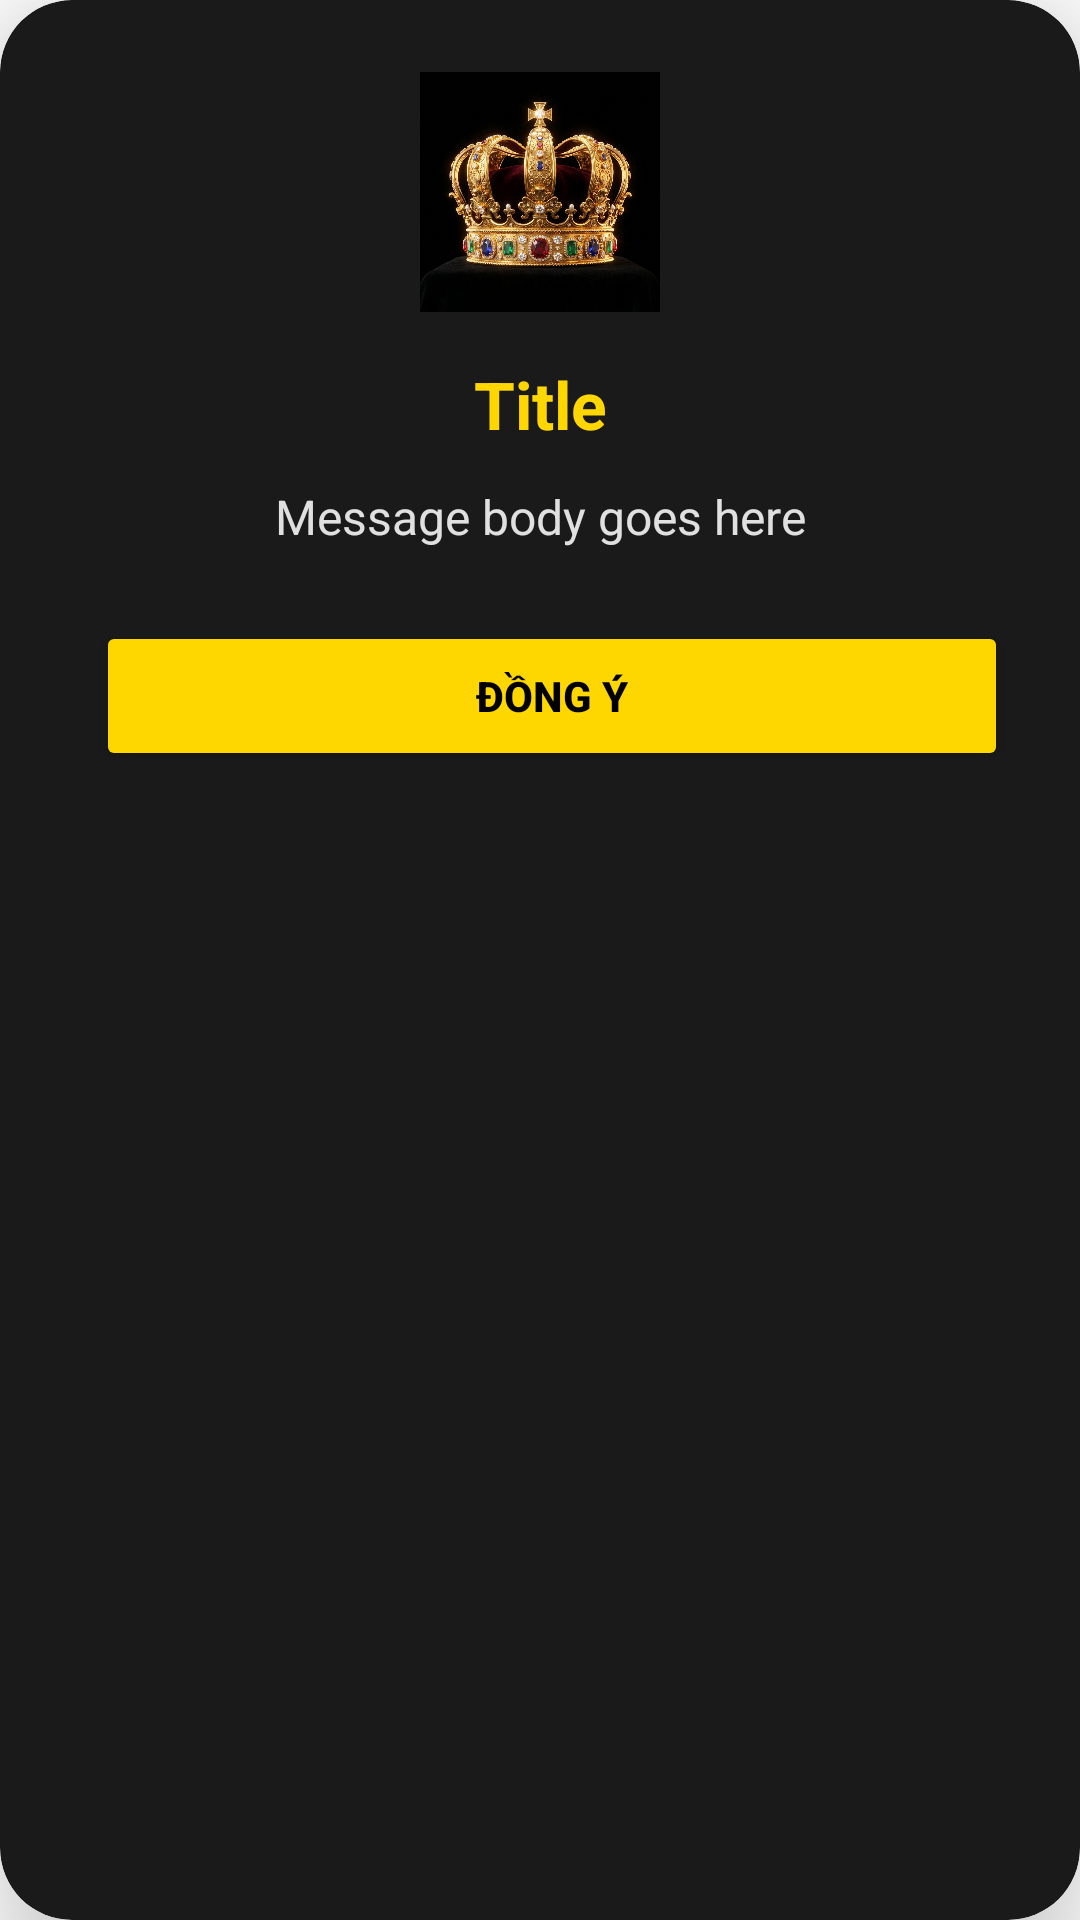

Icon bounding boxes for this 1080 × 1920 phone screenshot, format (x1, y1, x2, y2):
crown realistic: (420, 72, 660, 312)
